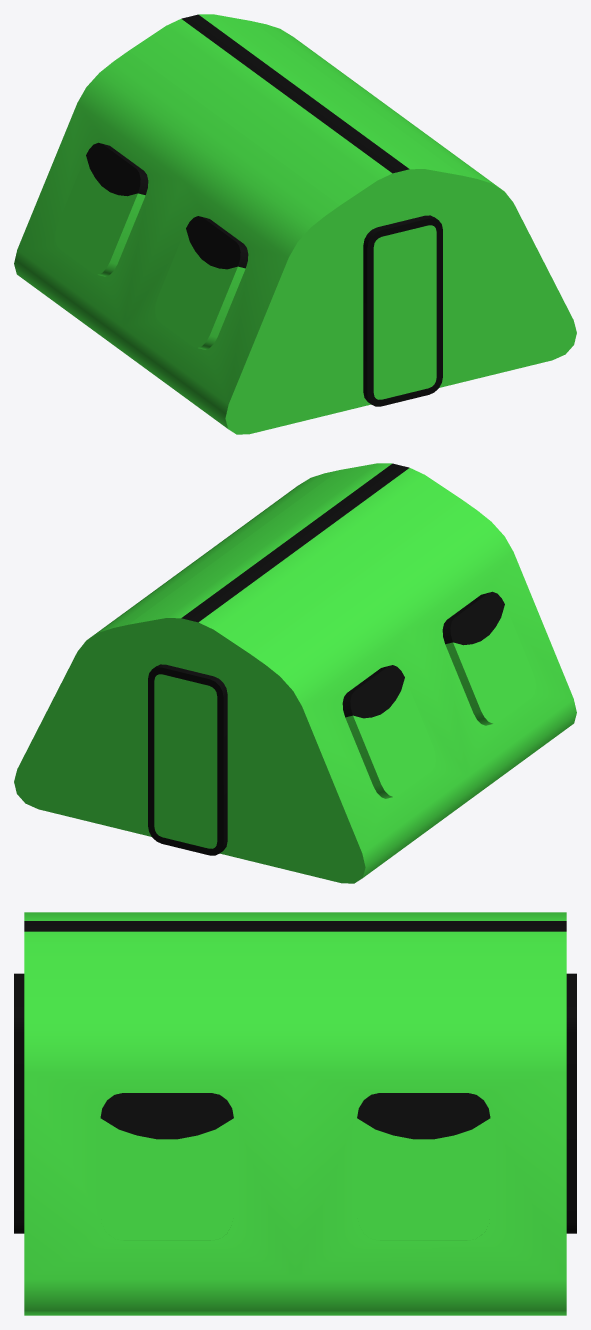
Rendered from Tent.fbx.
3 views of the same model, one above another, from view 1: azimuth 30°, elevation 25°; view 2: azimuth 150°, elevation 25°; view 3: azimuth 270°, elevation 25° (orthographic). The views are drawn at different scales.
Parts seen in each view (by area): view 1: Tent; view 2: Tent; view 3: Tent.
Part boxes in pixels (box(x1,y1,x2,y2)): Tent: box(14, 14, 576, 434); Tent: box(14, 463, 576, 883); Tent: box(14, 912, 576, 1315).
Bounding box in the file's own units: 376 × 231 × 406.
